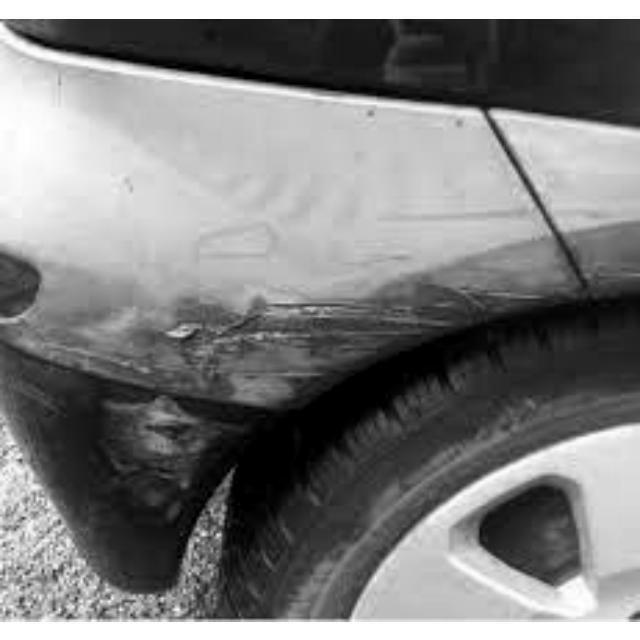rear-bumper-dent: (1, 51, 582, 591)
